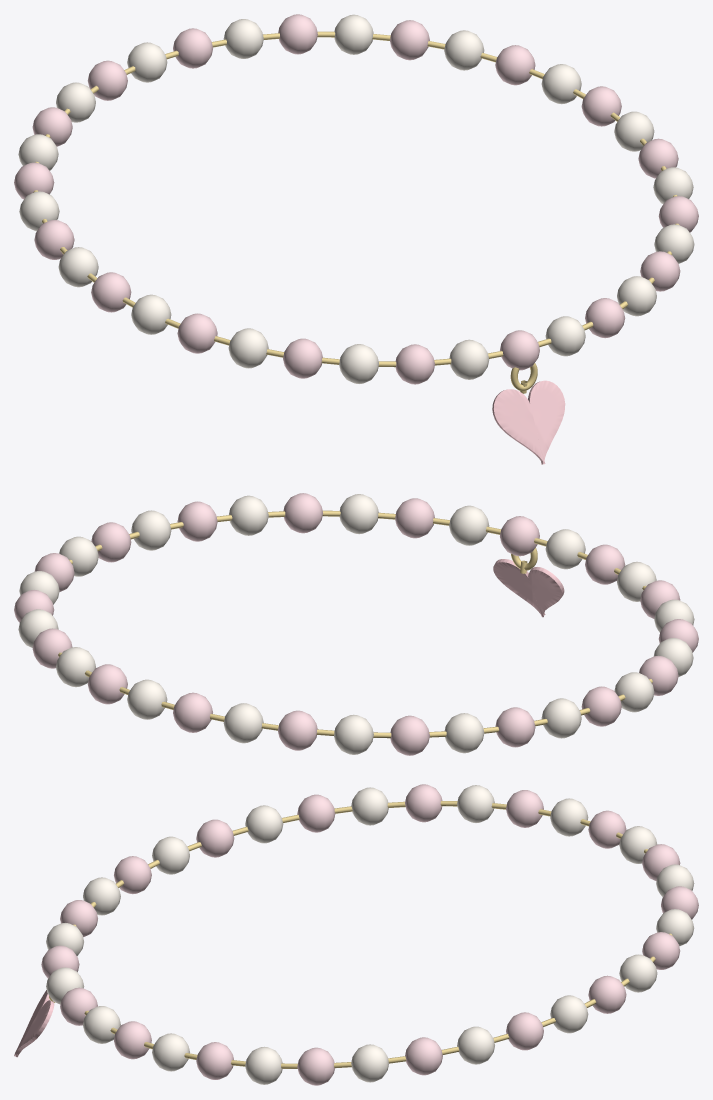
Rendered from restart_necklace_heart_chick.glb.
The picture shows the model from 3 angles, top to bottom: view 1: azimuth 30°, elevation 25°; view 2: azimuth 150°, elevation 25°; view 3: azimuth 270°, elevation 25°; orthographic projection. The views are drawn at different scales.
Visible parts, largest first — view 1: Corazón bordado.003, Hilo continuo del collar.003, Perla engarzada.140, Perla engarzada.141, Perla engarzada.142, Perla engarzada.139, Perla engarzada.121, Perla engarzada.124, Perla engarzada.138, Perla engarzada.143, Perla engarzada.122, Perla engarzada.123 (+26 smaller); view 2: Corazón bordado.003, Hilo continuo del collar.003, Perla engarzada.129, Perla engarzada.127, Perla engarzada.130, Perla engarzada.128, Perla engarzada.109, Perla engarzada.131, Perla engarzada.110, Perla engarzada.111, Perla engarzada.132, Perla engarzada.112 (+26 smaller); view 3: Hilo continuo del collar.003, Perla engarzada.117, Perla engarzada.118, Perla engarzada.136, Perla engarzada.119, Perla engarzada.135, Perla engarzada.137, Perla engarzada.116, Perla engarzada.120, Perla engarzada.134, Perla engarzada.115, Perla engarzada.114 (+26 smaller).
Part boxes in pixels (x1,y1,x2,y2): Corazón bordado.003: (492,380,565,464); Hilo continuo del collar.003: (33,31,679,367); Perla engarzada.140: (283,338,322,378); Perla engarzada.141: (339,344,378,383); Perla engarzada.142: (395,344,434,384); Perla engarzada.139: (228,328,268,368); Perla engarzada.121: (444,30,484,70); Perla engarzada.124: (278,14,317,54); Perla engarzada.138: (177,313,217,353); Perla engarzada.143: (449,339,489,379); Perla engarzada.122: (390,20,429,60); Perla engarzada.123: (334,14,373,54); Corazón bordado.003: (493,559,564,617); Hilo continuo del collar.003: (58,510,652,738); Perla engarzada.129: (334,714,373,754); Perla engarzada.127: (223,703,263,743); Perla engarzada.130: (390,715,429,755); Perla engarzada.128: (278,710,317,750); Perla engarzada.109: (449,505,489,545); Perla engarzada.131: (444,713,484,753); Perla engarzada.110: (395,498,434,538); Perla engarzada.111: (339,494,378,534); Perla engarzada.132: (495,707,535,747); Perla engarzada.112: (283,493,322,533); Hilo continuo del collar.003: (73,801,672,1068); Perla engarzada.117: (351,1044,389,1082); Perla engarzada.118: (405,1037,442,1075); Perla engarzada.136: (297,794,335,832); Perla engarzada.119: (457,1026,494,1064); Perla engarzada.135: (351,787,388,825); Perla engarzada.137: (245,805,283,843); Perla engarzada.116: (297,1047,334,1085); Perla engarzada.120: (506,1012,543,1050); Perla engarzada.134: (405,784,442,822); Perla engarzada.115: (245,1046,282,1084); Perla engarzada.114: (196,1042,233,1079).
Size of the model in its own units: 0.4738 by 0.1369 by 0.5023.
